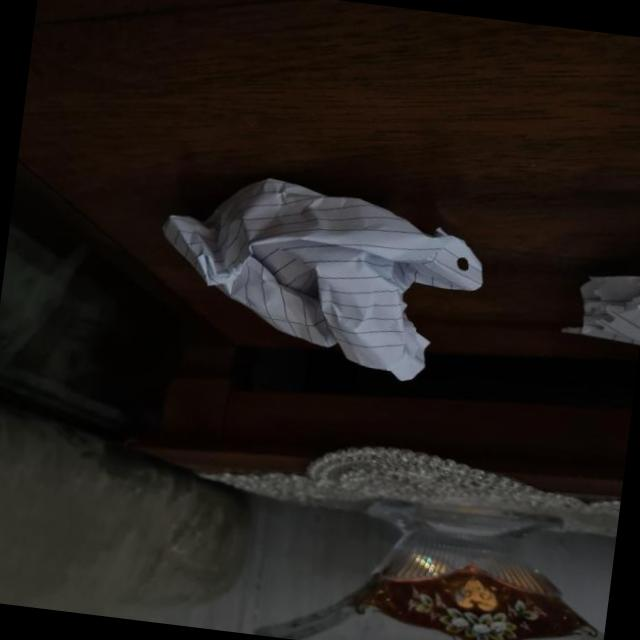cardboard paper: (162, 180, 480, 381), (560, 277, 640, 346)
